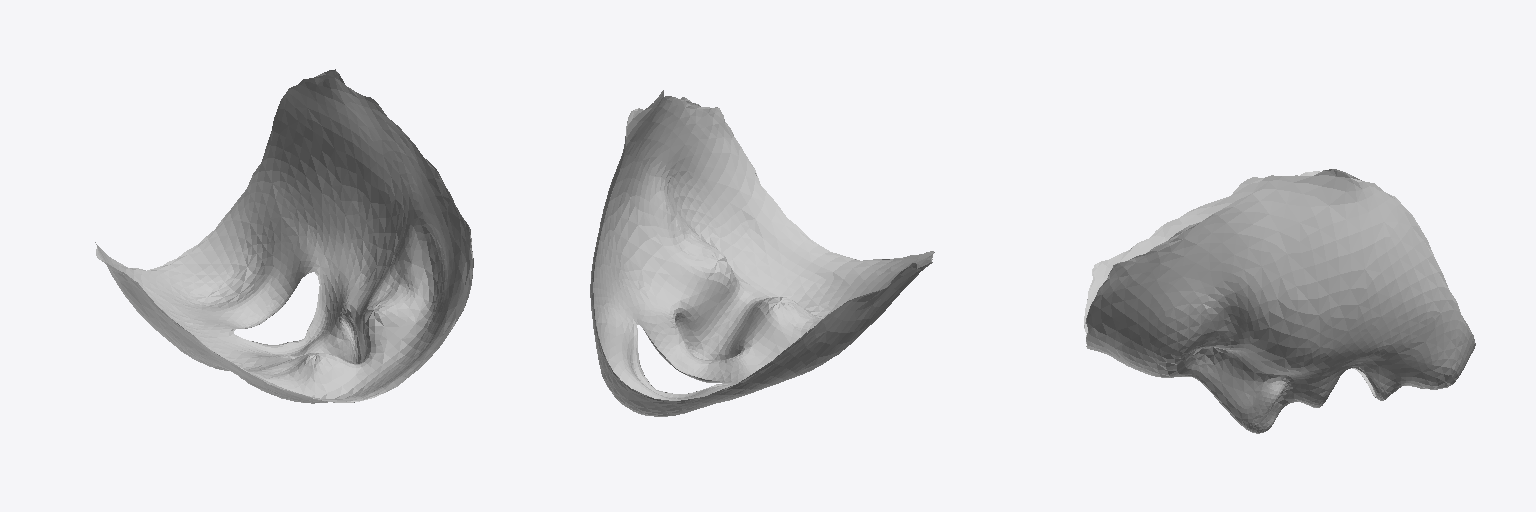
File: face_gab_sfm53.obj
3 views of the same model, side by side, from view 1: azimuth 30°, elevation 25°; view 2: azimuth 150°, elevation 25°; view 3: azimuth 270°, elevation 25° (orthographic).
Size of the model in its own units: 167 by 159 by 204.